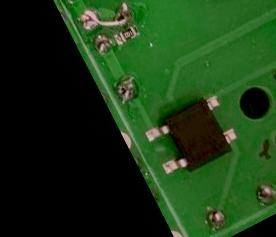chip-resistor: (110, 22, 141, 47)
ic: (139, 88, 244, 186)
